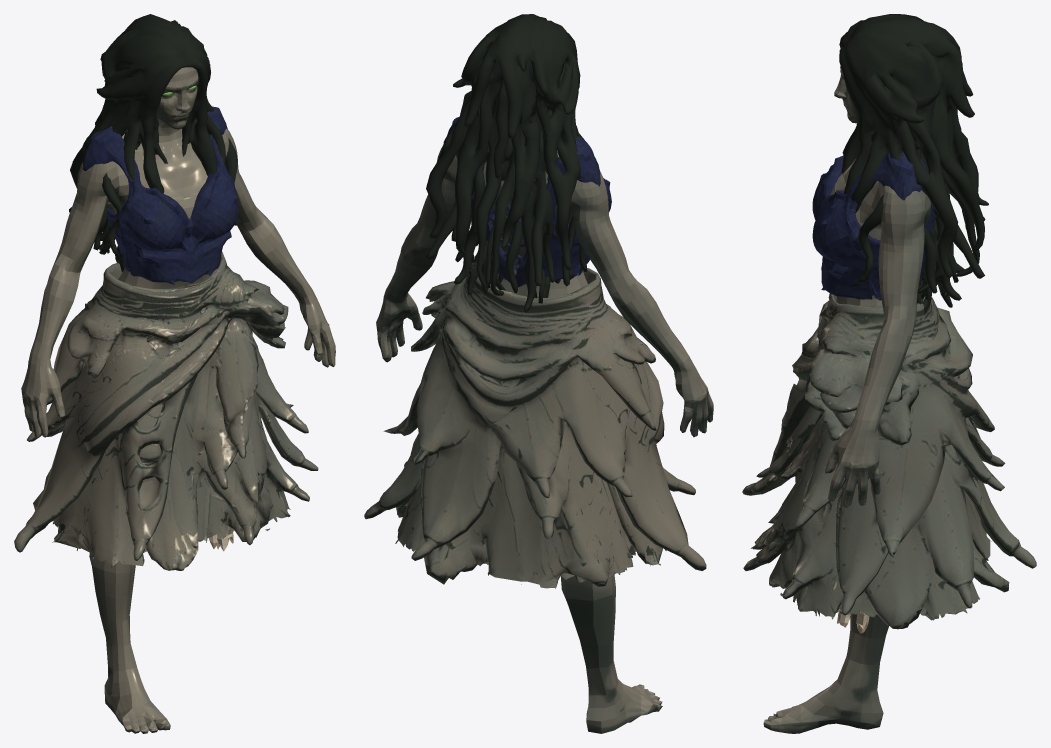
File: patasola.glb
3 renders of one model, left to right at view 1: azimuth 30°, elevation 25°; view 2: azimuth 150°, elevation 25°; view 3: azimuth 270°, elevation 25°, orthographic. The views are drawn at different scales.
Parts seen in each view (by area): view 1: Retopo_Falda.001, Patasola.001, Retopo_Pelo.001, Retopo_Top.001; view 2: Retopo_Falda.001, Retopo_Pelo.001, Patasola.001, Retopo_Top.001; view 3: Retopo_Falda.001, Retopo_Pelo.001, Patasola.001, Retopo_Top.001.
Boxes of the visible parts, box(x1,y1,x2,y2) form: Retopo_Falda.001: box(14, 251, 318, 570); Patasola.001: box(21, 67, 335, 733); Retopo_Pelo.001: box(69, 14, 237, 272); Retopo_Top.001: box(83, 106, 238, 284); Retopo_Falda.001: box(364, 255, 706, 588); Retopo_Pelo.001: box(426, 14, 587, 312); Patasola.001: box(376, 146, 713, 733); Retopo_Top.001: box(447, 117, 611, 287); Retopo_Falda.001: box(742, 292, 1036, 629); Retopo_Pelo.001: box(839, 14, 988, 313); Patasola.001: box(763, 66, 930, 733); Retopo_Top.001: box(812, 151, 936, 300).
Size of the model in its own units: 0.4875 by 1 by 0.3589.
Materials: 4 (3 with a texture image).
